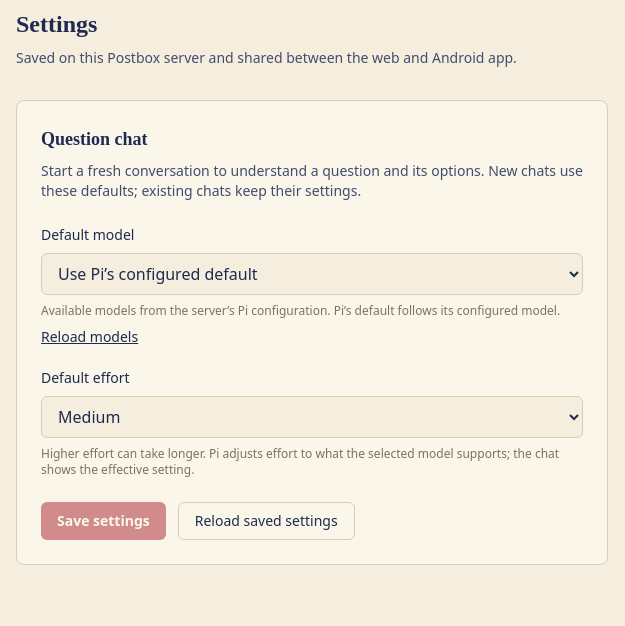
Test: loads server defaults, saves edits, and refreshes changes from another device
Step 1. Select "test/model — test/model" in the dropdown labelled "Default model" → (312, 274), box [41,253,583,295]
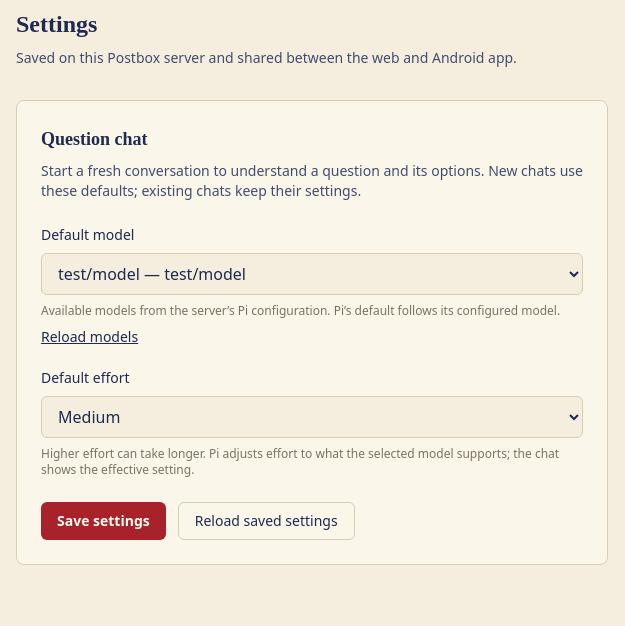
Step 2. Select "High" in the dropdown labelled "Default effort" → (312, 417), box [41,396,583,438]
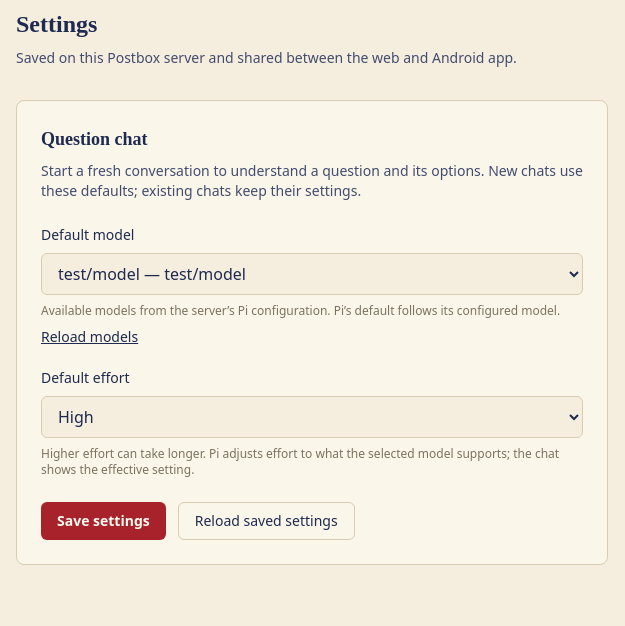
Step 3. Click the button "Save settings" → (103, 521), box [41,502,166,540]
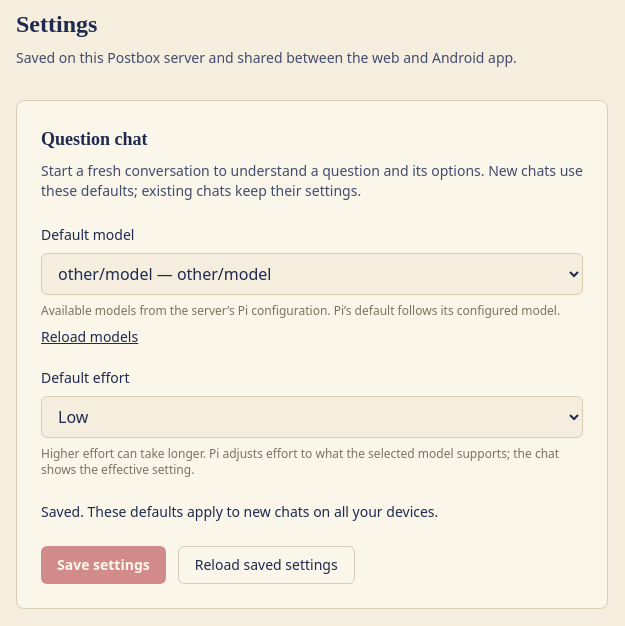
Now the text "Saved. These defaults apply to new chats on all your devices." is shown, box [41,502,438,521]
